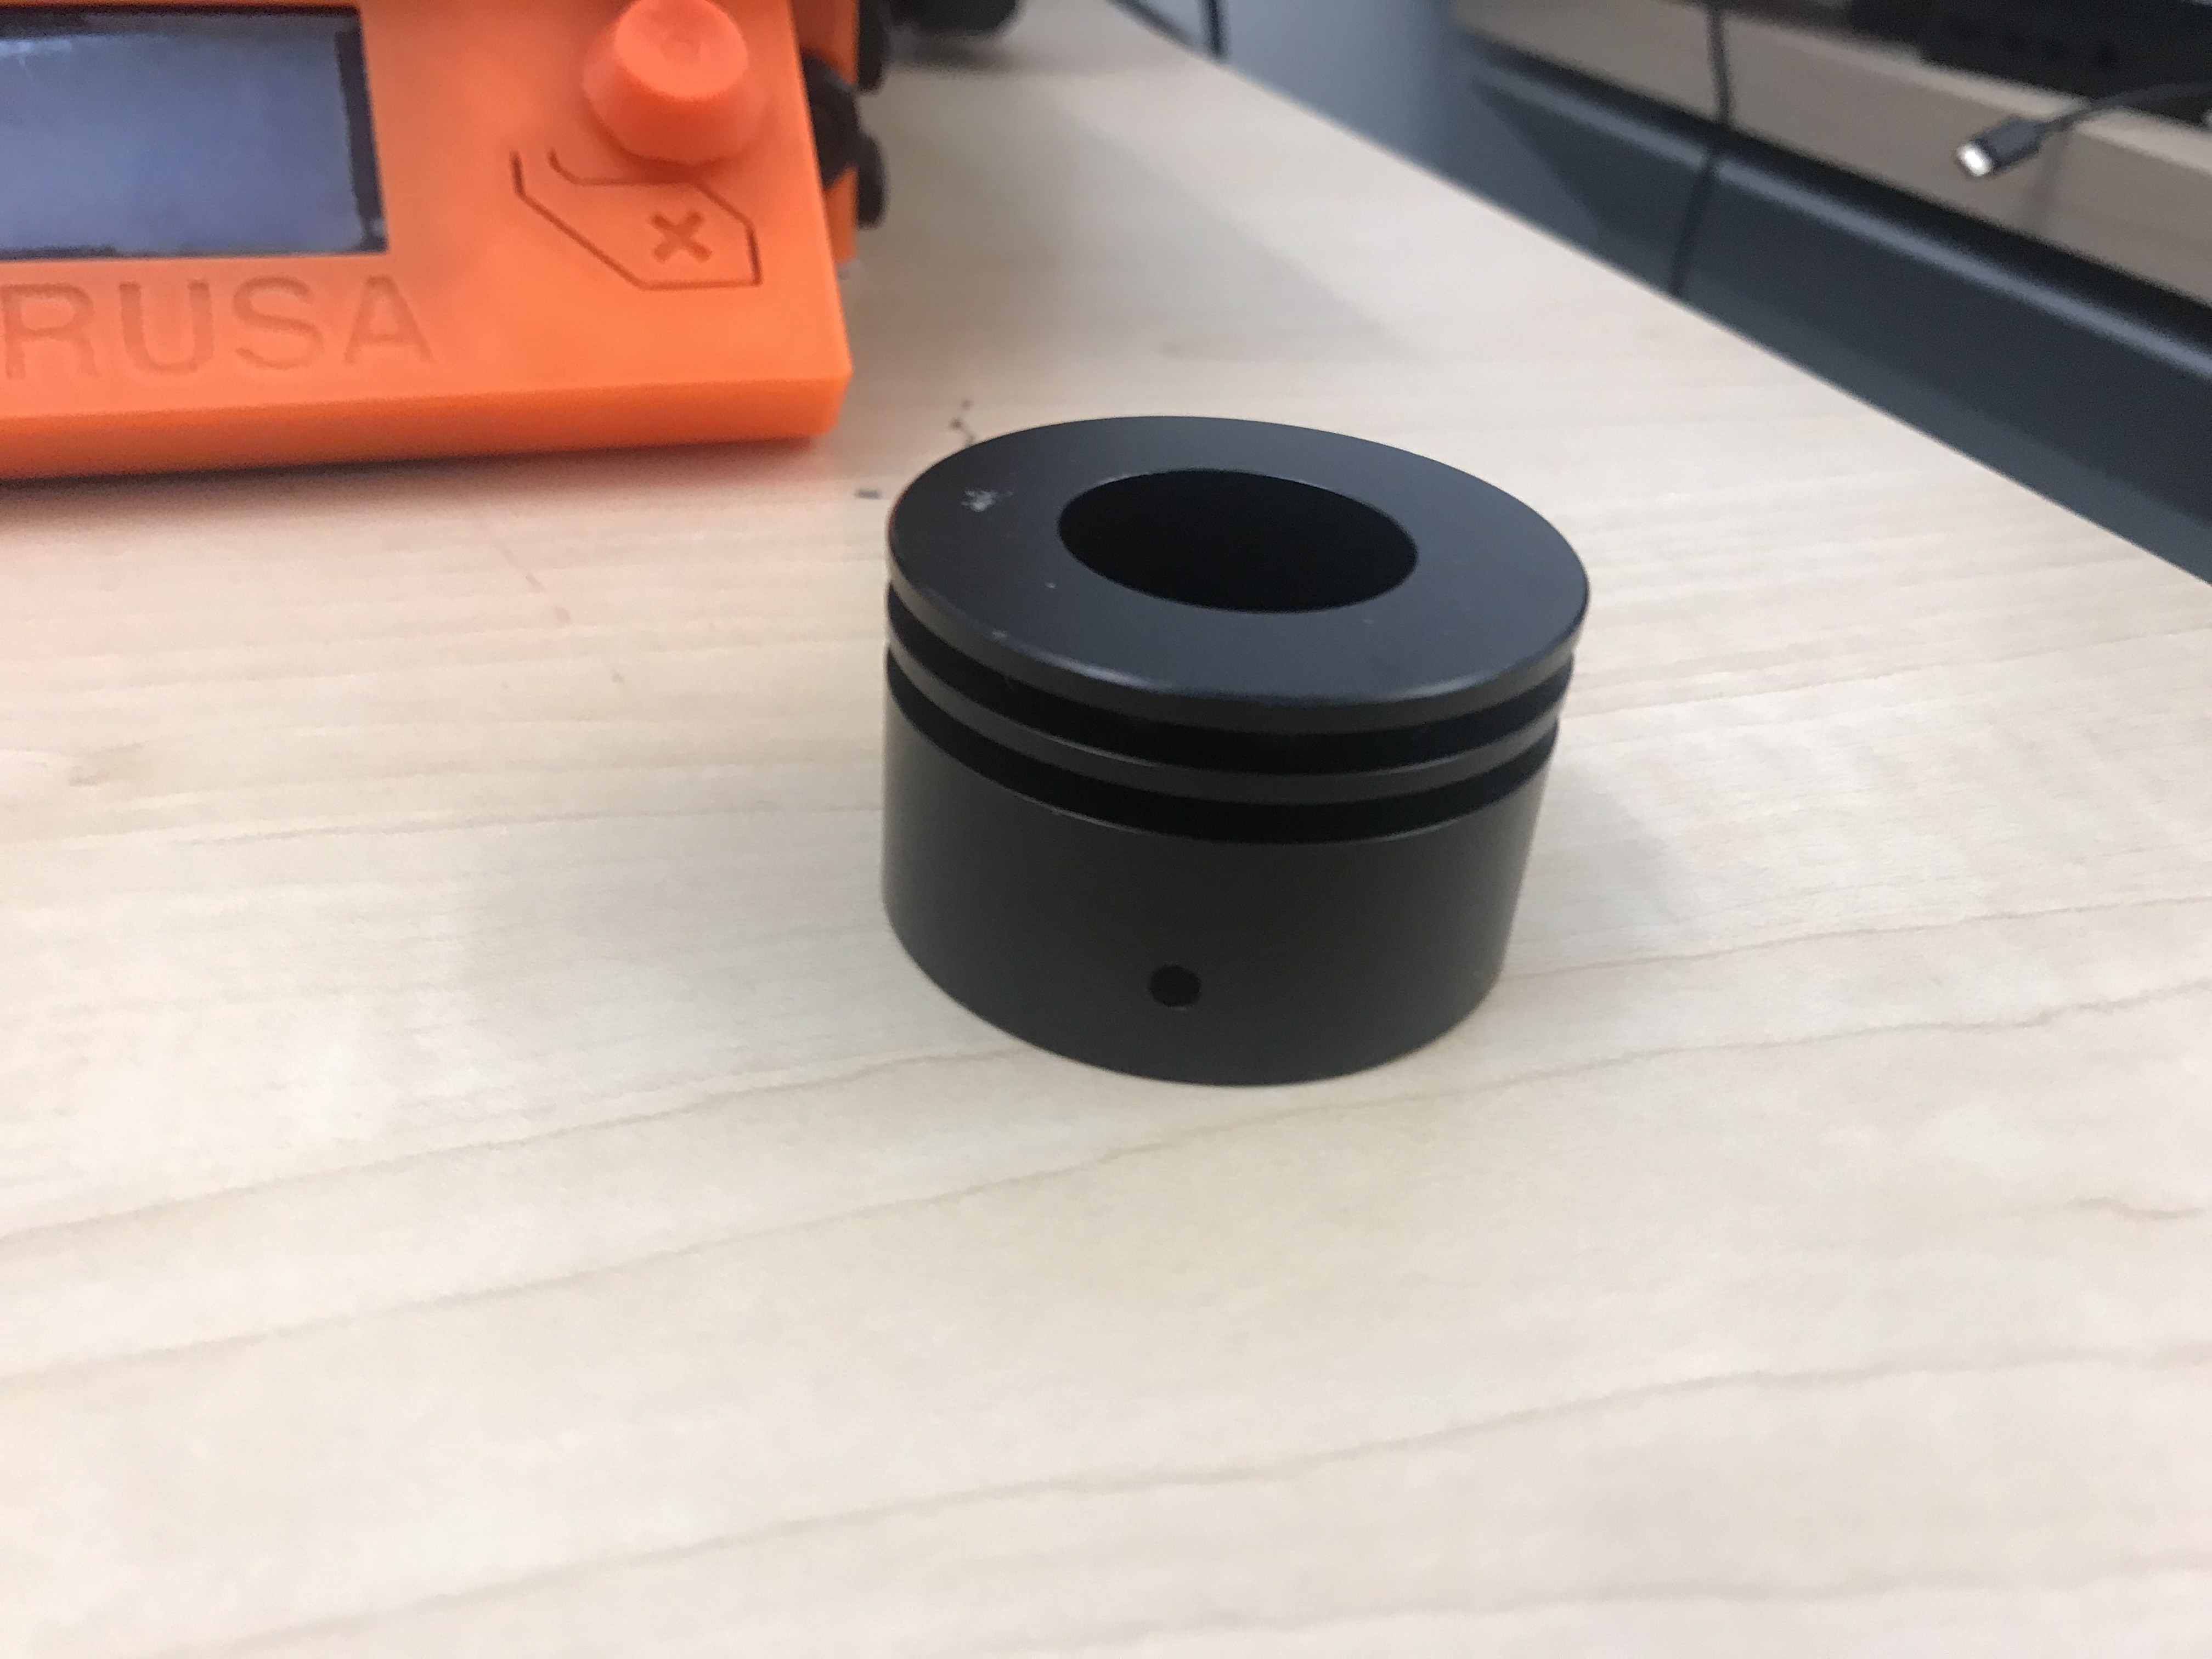pillar1: (874, 403, 1616, 1127)
